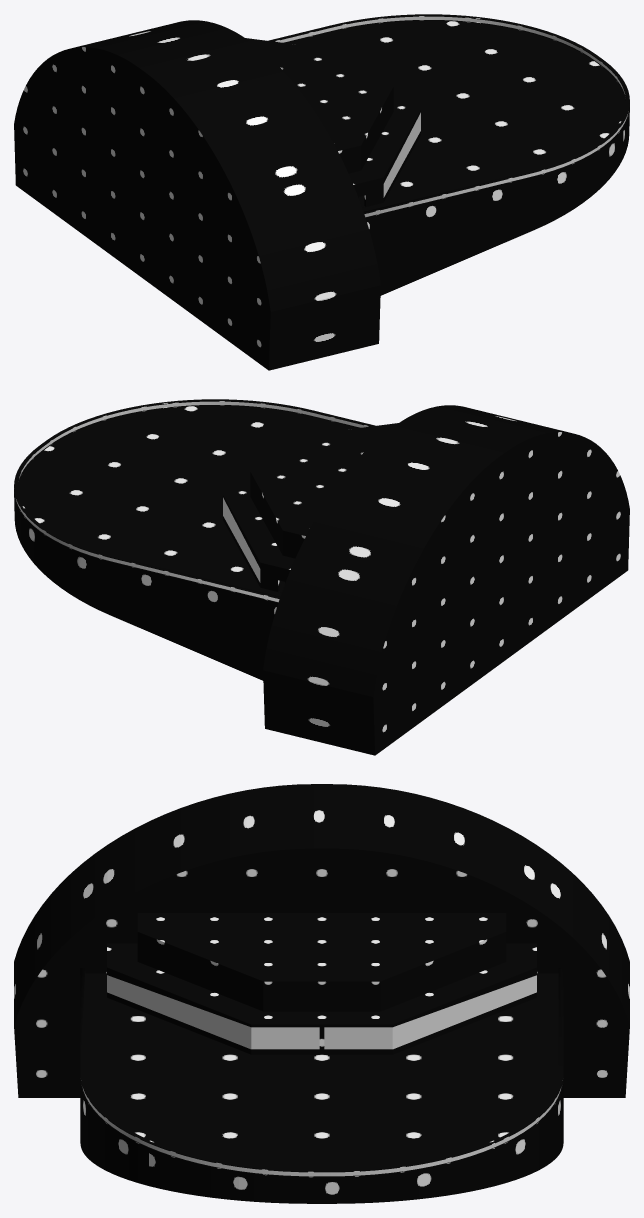
The model's file is facility1.fbx.
The picture shows the model from 3 angles, top to bottom: view 1: azimuth 30°, elevation 25°; view 2: azimuth 150°, elevation 25°; view 3: azimuth 270°, elevation 25°; orthographic projection. The views are drawn at different scales.
Parts seen in each view (by area): view 1: FACILITY_BACKGROUND, FACILITY1_TERRASSE, FACILITY1, FACILITY1_TERRASSE_BARRIERS; view 2: FACILITY_BACKGROUND, FACILITY1_TERRASSE, FACILITY1, FACILITY1_TERRASSE_BARRIERS; view 3: FACILITY_BACKGROUND, FACILITY1_TERRASSE, FACILITY1, FACILITY1_TERRASSE_BARRIERS.
Part boxes in pixels (x1=…): FACILITY_BACKGROUND: x1=14, y1=20, x2=380, y2=370; FACILITY1_TERRASSE: x1=286, y1=20, x2=629, y2=295; FACILITY1: x1=245, y1=38, x2=420, y2=207; FACILITY1_TERRASSE_BARRIERS: x1=268, y1=14, x2=629, y2=217; FACILITY_BACKGROUND: x1=263, y1=405, x2=629, y2=755; FACILITY1_TERRASSE: x1=14, y1=405, x2=357, y2=680; FACILITY1: x1=223, y1=423, x2=398, y2=592; FACILITY1_TERRASSE_BARRIERS: x1=14, y1=399, x2=375, y2=602; FACILITY_BACKGROUND: x1=14, y1=784, x2=629, y2=1097; FACILITY1_TERRASSE: x1=80, y1=973, x2=563, y2=1203; FACILITY1: x1=107, y1=913, x2=536, y2=1054; FACILITY1_TERRASSE_BARRIERS: x1=80, y1=968, x2=563, y2=1177.
Size of the model in its own units: 131 by 128 by 56.97.
